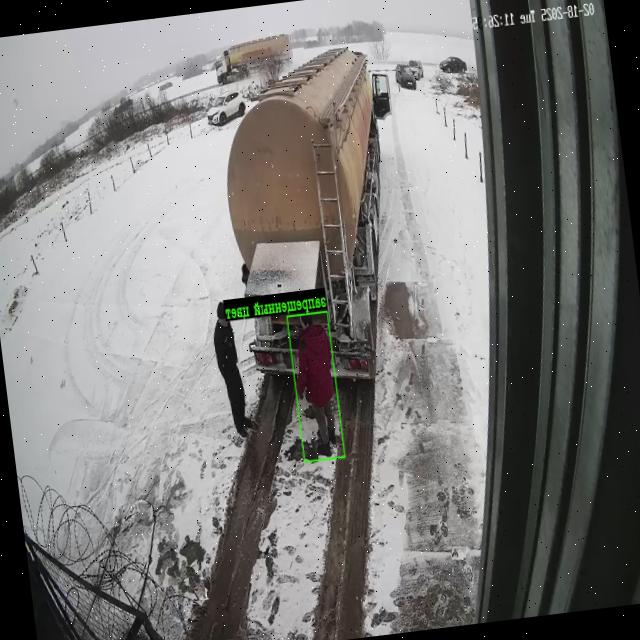Person: (213, 301, 257, 437)
Red uniform: (297, 315, 336, 454)
